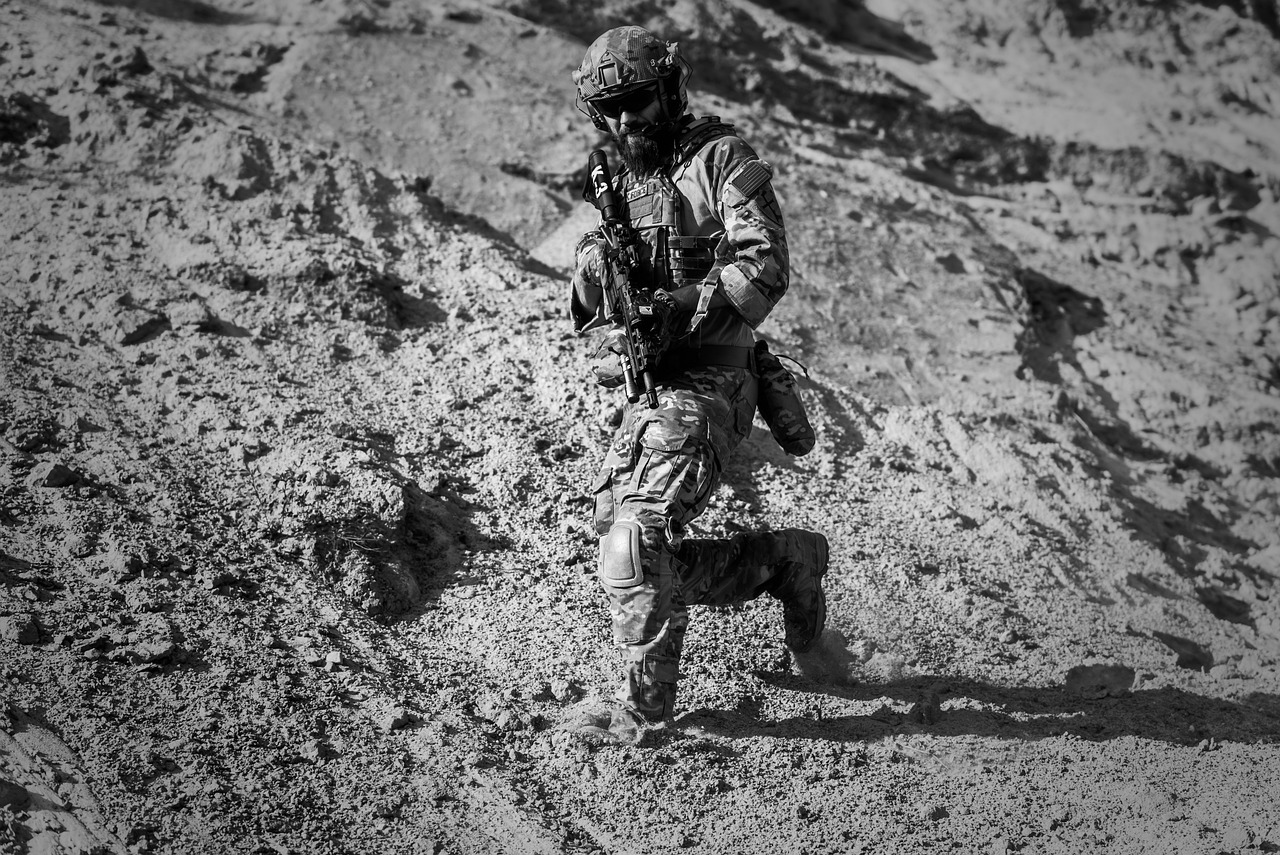gun: (578, 146, 668, 413)
